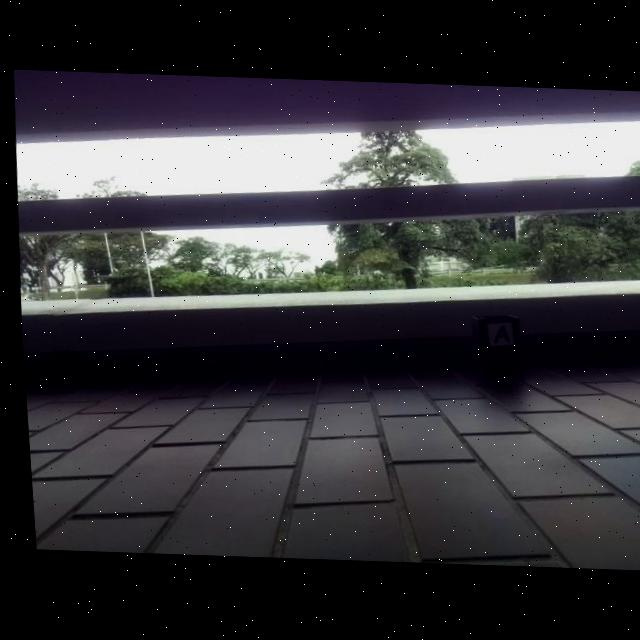A: (488, 323, 505, 343), (488, 324, 505, 343), (488, 325, 504, 343)
